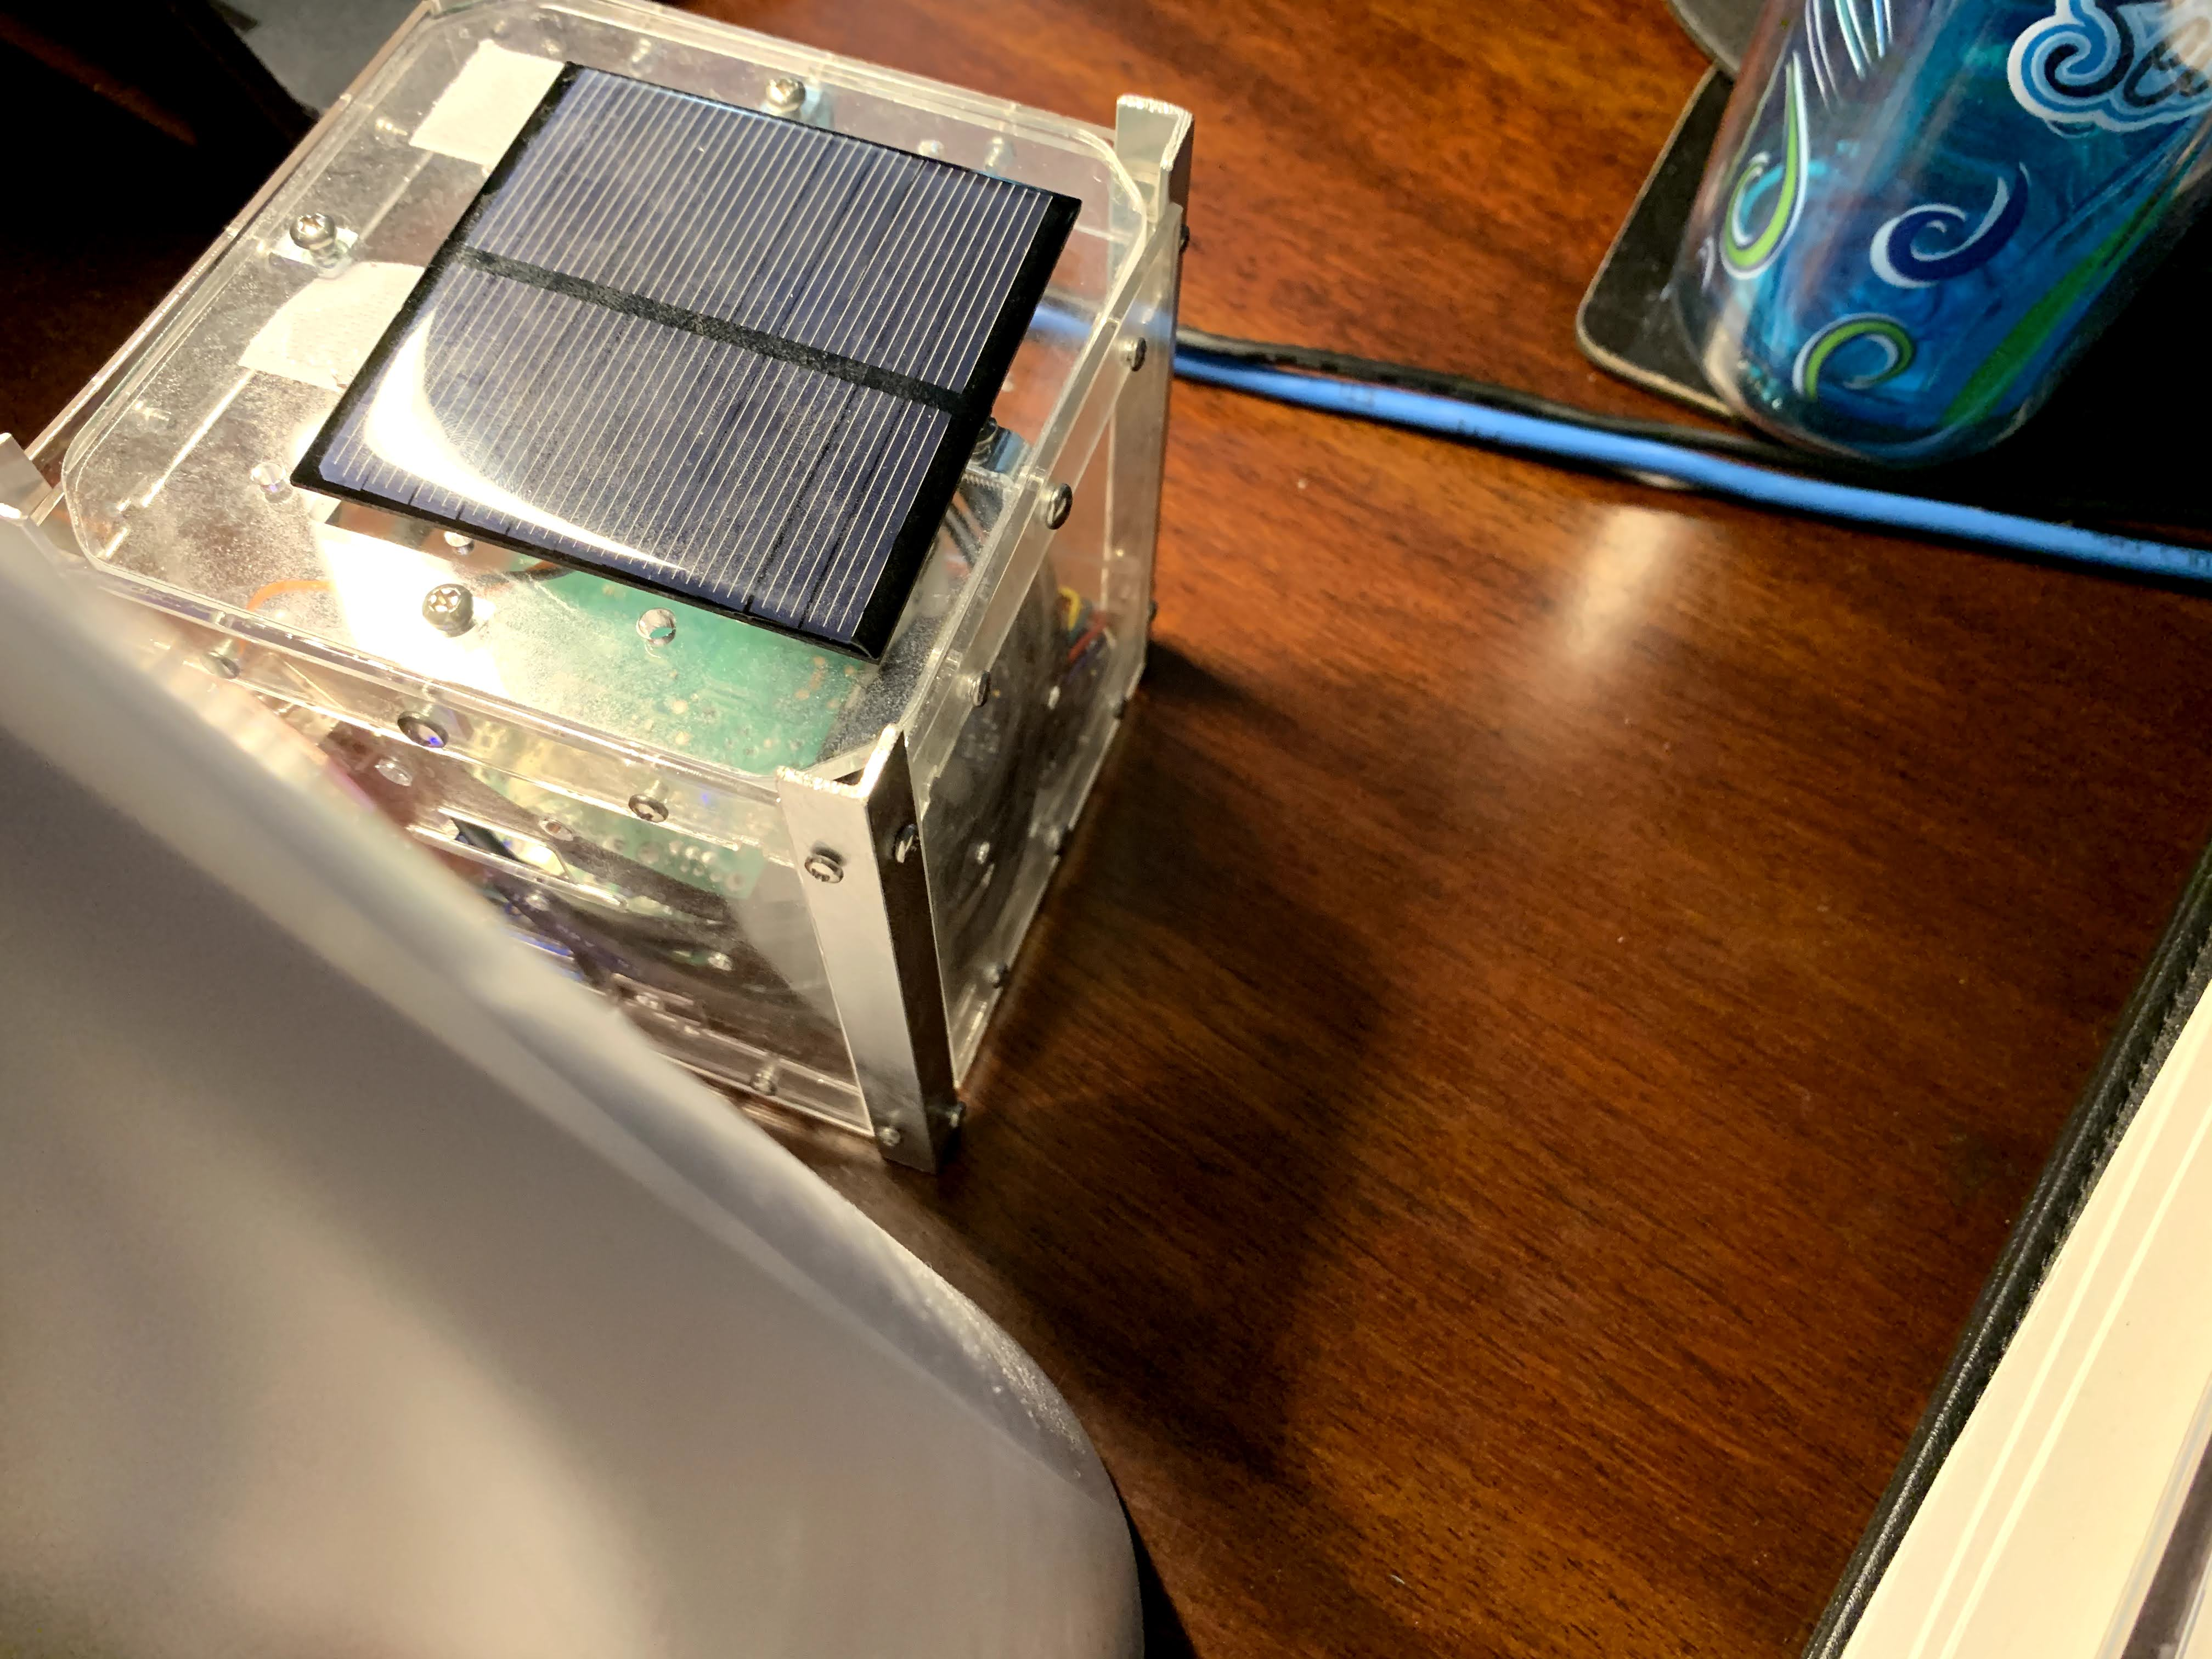Space-debris-cubesat: (7, 7, 1244, 1176)
